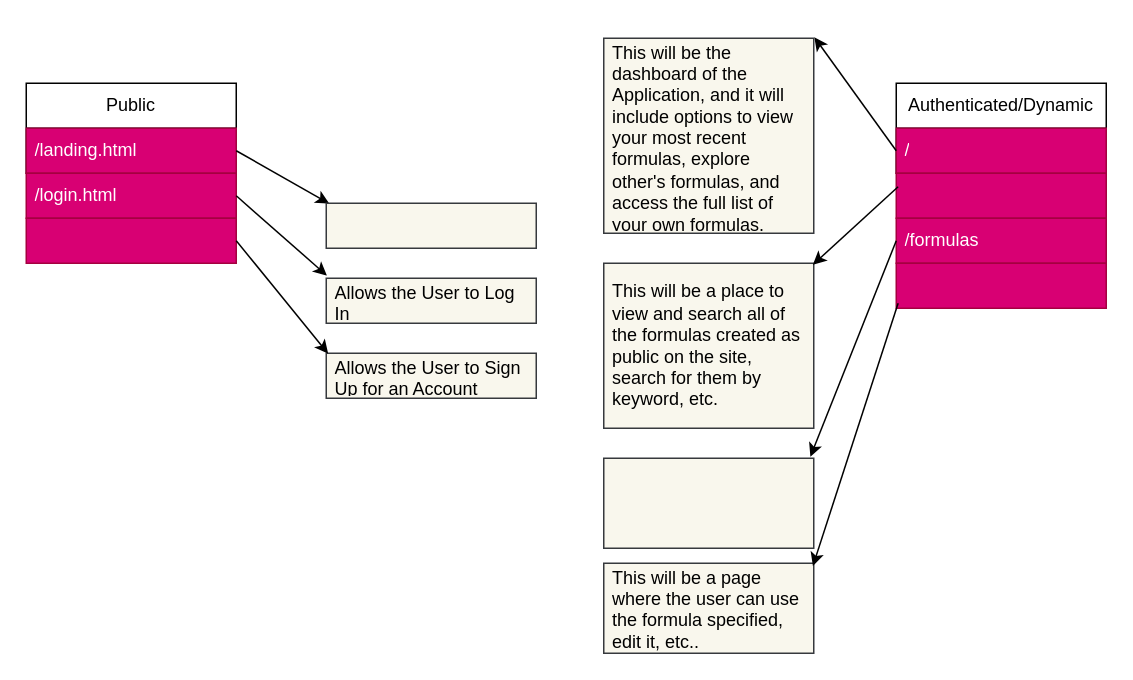
Some shapes in this 1133 by 680 pixel diagram are drawn without their labels. The box of each missing label's shape, as (x1, y1, x2, y2) in pixels:
/:formulaID: (895, 262, 1106, 308)
/explore: (895, 172, 1106, 218)
/signup.html: (25, 217, 236, 263)
Basic information about the site: (325, 202, 536, 248)
This will list all of the formulas that the user has created/saved.: (602, 457, 814, 548)
